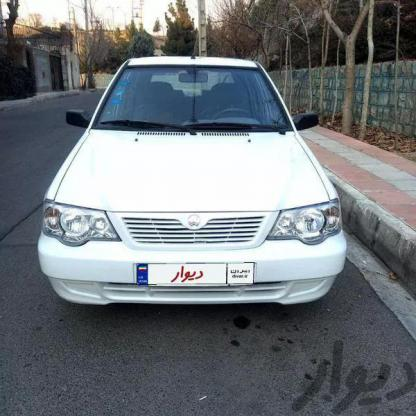car: (37, 54, 349, 310)
